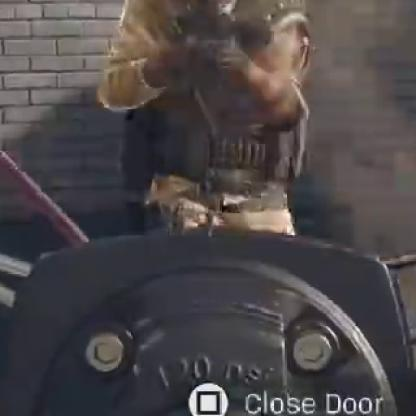enemy: (97, 1, 316, 239)
